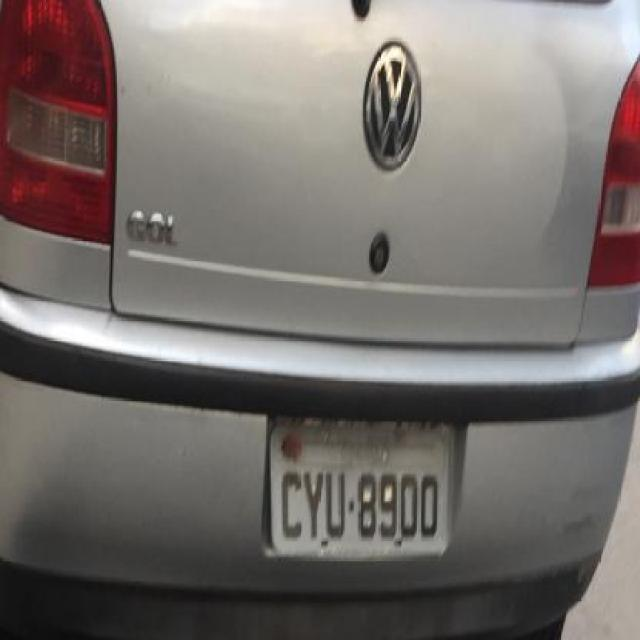old_plate: (262, 421, 458, 564)
